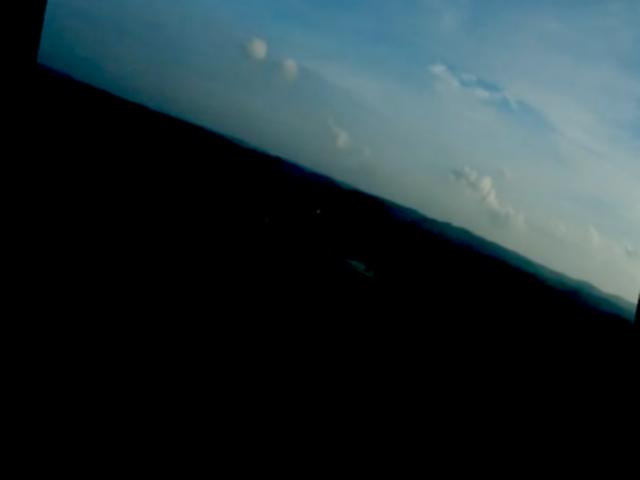iha: (302, 212, 325, 225)
